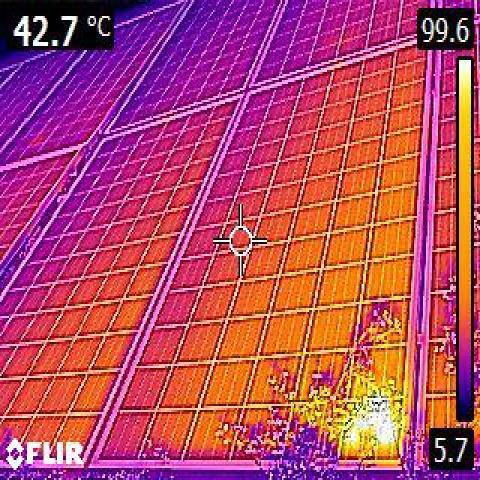fault: (348, 401, 398, 459)
